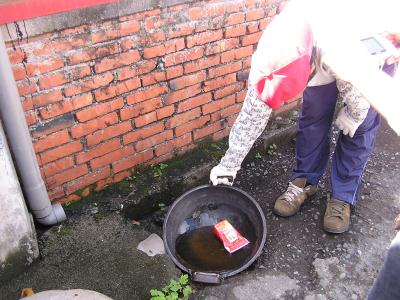bowl: (160, 180, 270, 289)
